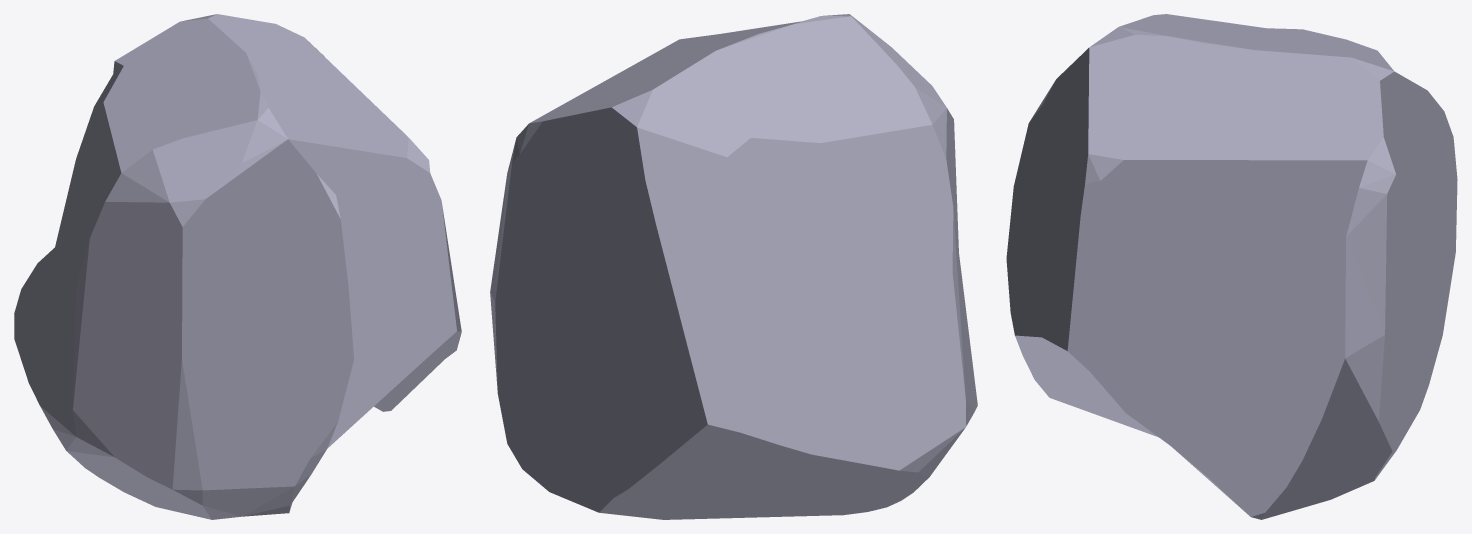
The model's file is Batubesar3.fbx.
3 views of the same model, side by side, from view 1: azimuth 30°, elevation 25°; view 2: azimuth 150°, elevation 25°; view 3: azimuth 270°, elevation 25° (orthographic). The views are drawn at different scales.
Parts seen in each view (by area): view 1: Batu; view 2: Batu; view 3: Batu.
Part boxes in pixels (left/top/right/bottom): Batu: left=14, top=14, right=461, bottom=519; Batu: left=490, top=14, right=977, bottom=519; Batu: left=1006, top=14, right=1457, bottom=519.
Bounding box in the file's own units: 278 × 301 × 292.
